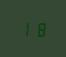eight: (32, 19, 44, 37)
one: (19, 19, 31, 36)
